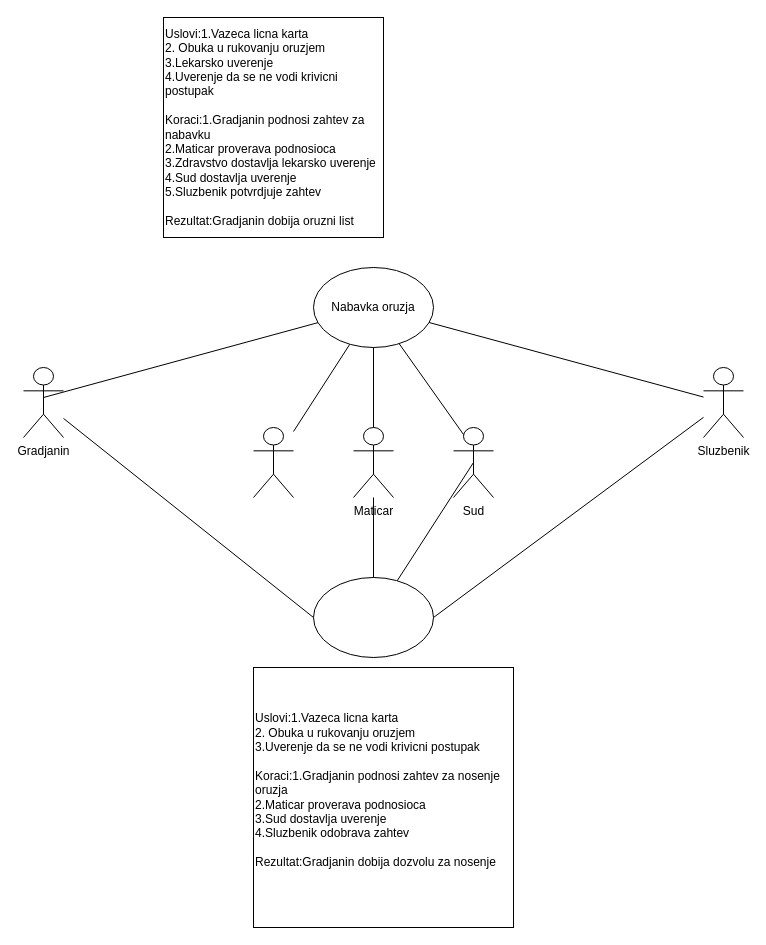
Some shapes in this 766 by 945 pixel diagram are drawn without their labels. Here are the shapes that lost their labels. From the top down, the centre of each, then its label:
At [273,462]: "Zdravsvo".
At [373,617]: "Nosenje oruzja".
